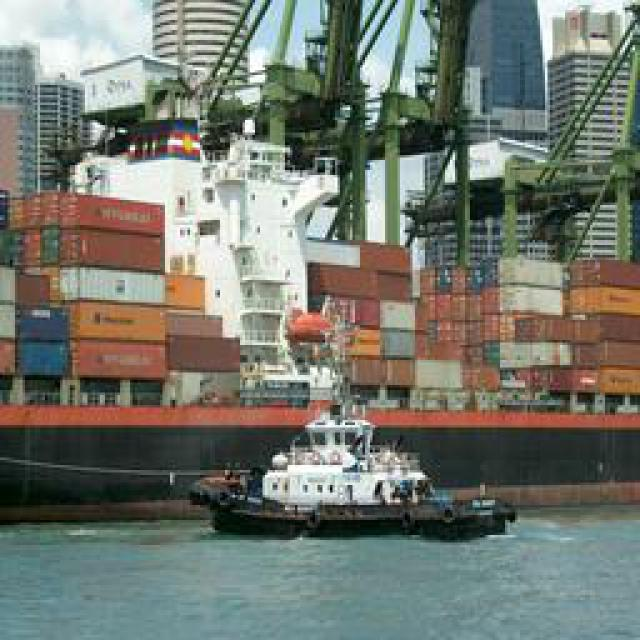Ship: (202, 417, 515, 537)
